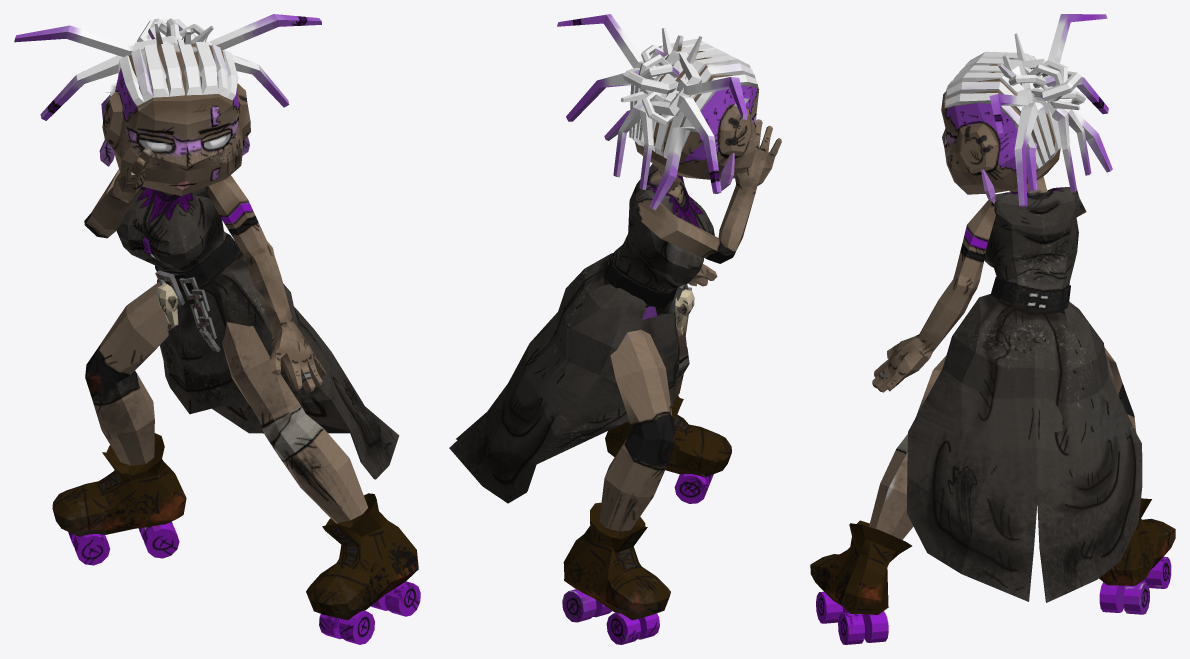
The model's file is bruja_000007.obj.
3 views of the same model, side by side, from view 1: azimuth 30°, elevation 25°; view 2: azimuth 150°, elevation 25°; view 3: azimuth 270°, elevation 25° (orthographic). The views are drawn at different scales.
Parts seen in each view (by area): view 1: Bruja_Plane.001; view 2: Bruja_Plane.001; view 3: Bruja_Plane.001.
Part boxes in pixels (x1=…): Bruja_Plane.001: x1=14, y1=14, x2=420, y2=644; Bruja_Plane.001: x1=449, y1=14, x2=781, y2=644; Bruja_Plane.001: x1=810, y1=14, x2=1175, y2=644.
Bounding box in the file's own units: 9.56 × 15.47 × 9.26.
